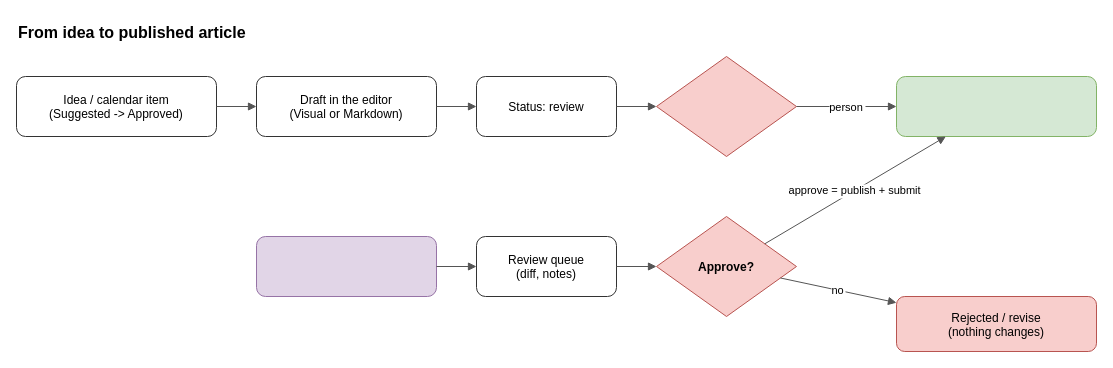
Image size: 1113x368. Some labels were removed from this diagram. The centre of each missing label's shape, as x and y in pixels:
AI draft (SEO agent or News desk): the point at 346,266
Publish (button or scheduled): the point at 726,106
Published sitemap, feeds, IndexNow: the point at 996,106
